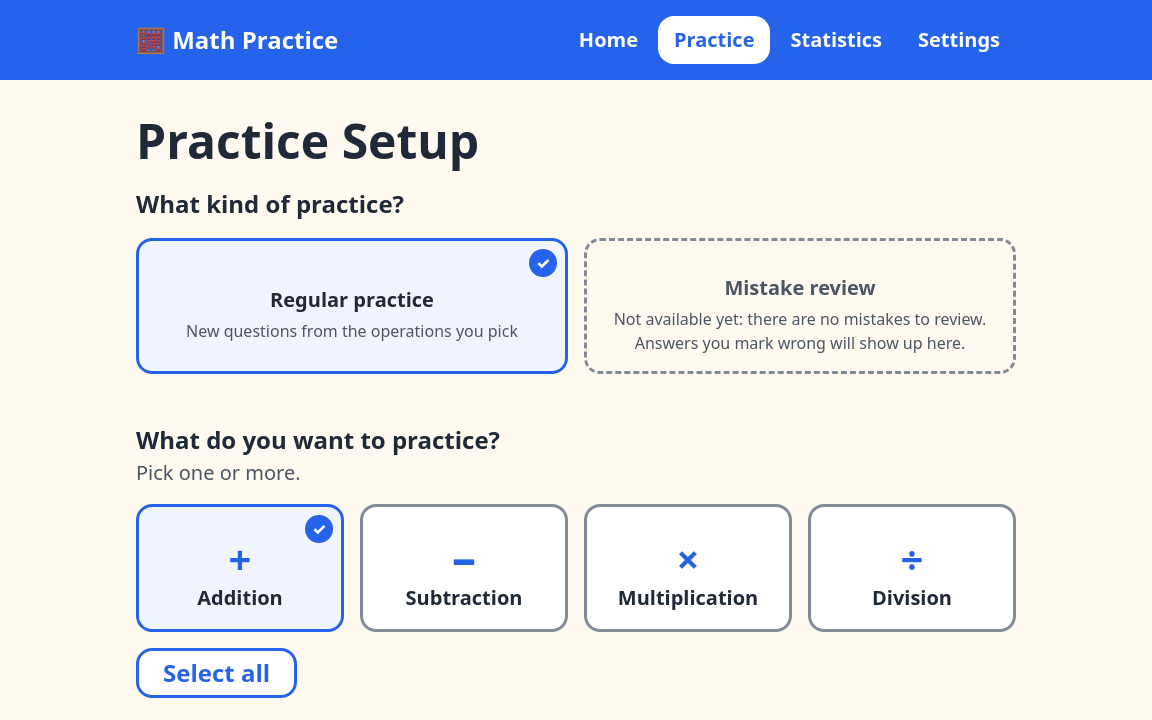
it: PracticeSetupPage › disables Start Session and explains why when no operation is selected
The width and height of the screenshot is (1152, 720).
What coordinates should you click on to do the following:
click the checkbox labelled "Addition"
I would click on:
 (240, 568)
Its box is [136,504,344,632].
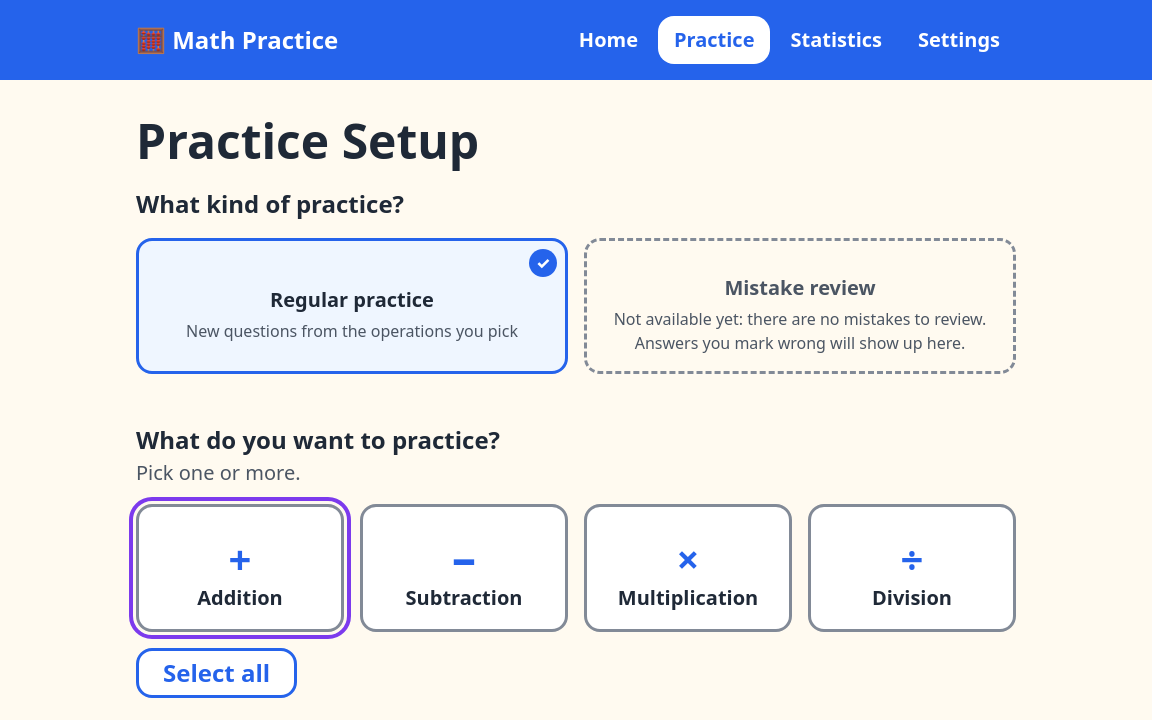
What coordinates should you click on to do the following:
click the checkbox labelled "Division"
I would click on:
 (912, 568)
Its box is [808,504,1016,632].
(page scrolled)
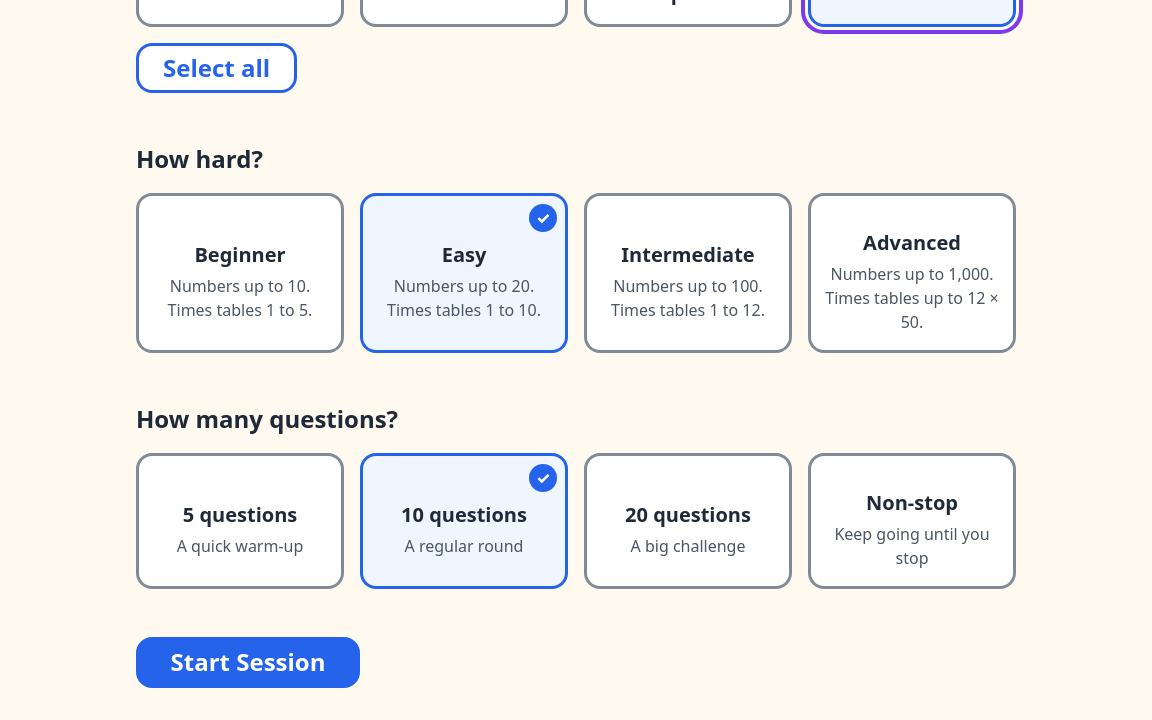
Expected: the button "Start Session" is enabled, [136,637,360,688]
